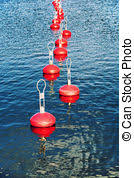buoy: (30, 113, 56, 131), (58, 86, 81, 97), (43, 64, 60, 75), (55, 38, 68, 47), (54, 48, 67, 56), (50, 23, 61, 30), (61, 30, 71, 36), (52, 18, 61, 24), (56, 15, 65, 19)
